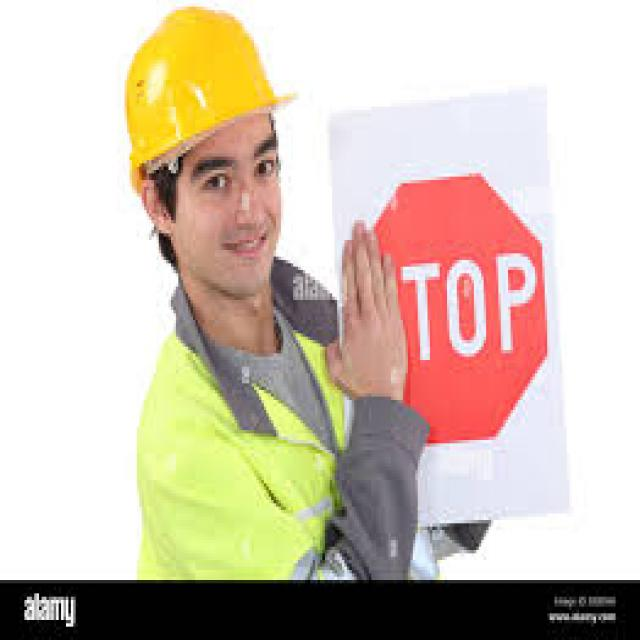Reflective-Jacket: (132, 307, 354, 580)
Safety-Helmet: (117, 0, 298, 170)
